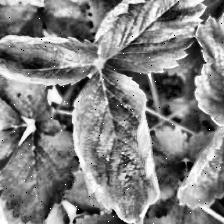Powdery Mildew Leaf: (72, 68, 160, 224), (95, 0, 210, 75), (0, 34, 99, 86)
